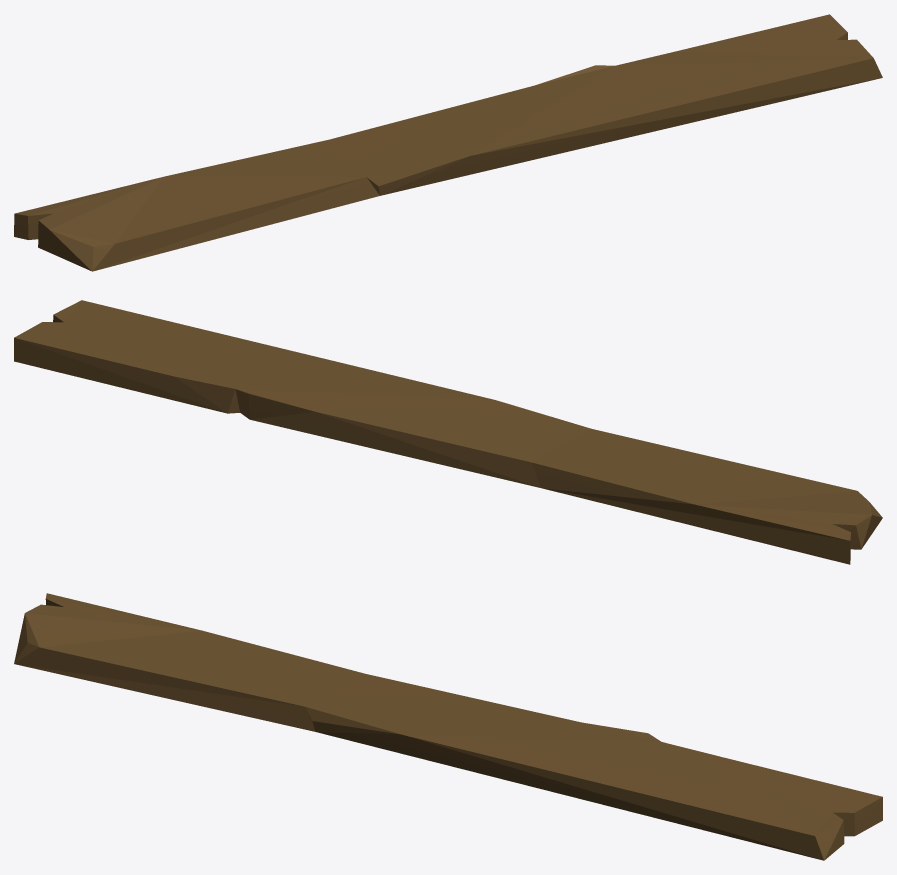
Rendered from Board_07.fbx.
The picture shows the model from 3 angles, top to bottom: view 1: azimuth 30°, elevation 25°; view 2: azimuth 150°, elevation 25°; view 3: azimuth 330°, elevation 25°; orthographic projection. The views are drawn at different scales.
Visible parts, largest first — view 1: Board_07; view 2: Board_07; view 3: Board_07.
Part boxes in pixels (x1,y1,x2,y2): Board_07: (14, 14, 882, 271); Board_07: (14, 300, 882, 564); Board_07: (14, 593, 882, 860).
Size of the model in its own units: 1.72 by 0.0541 by 0.2122.
